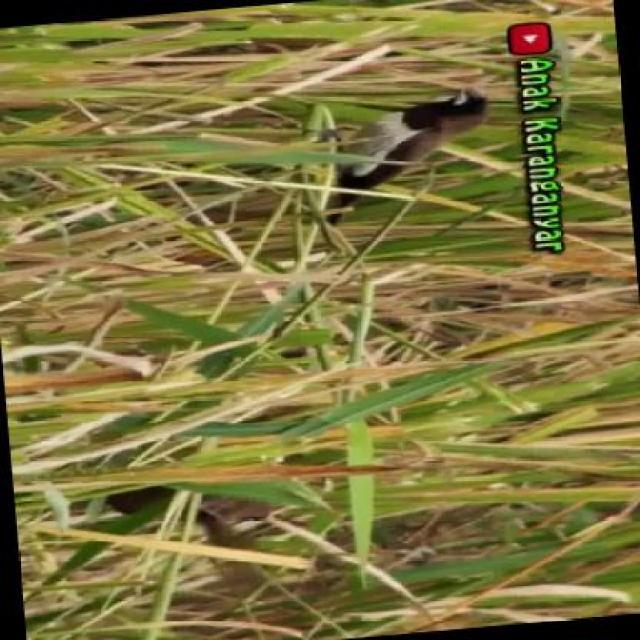Bird: (326, 83, 488, 233)
